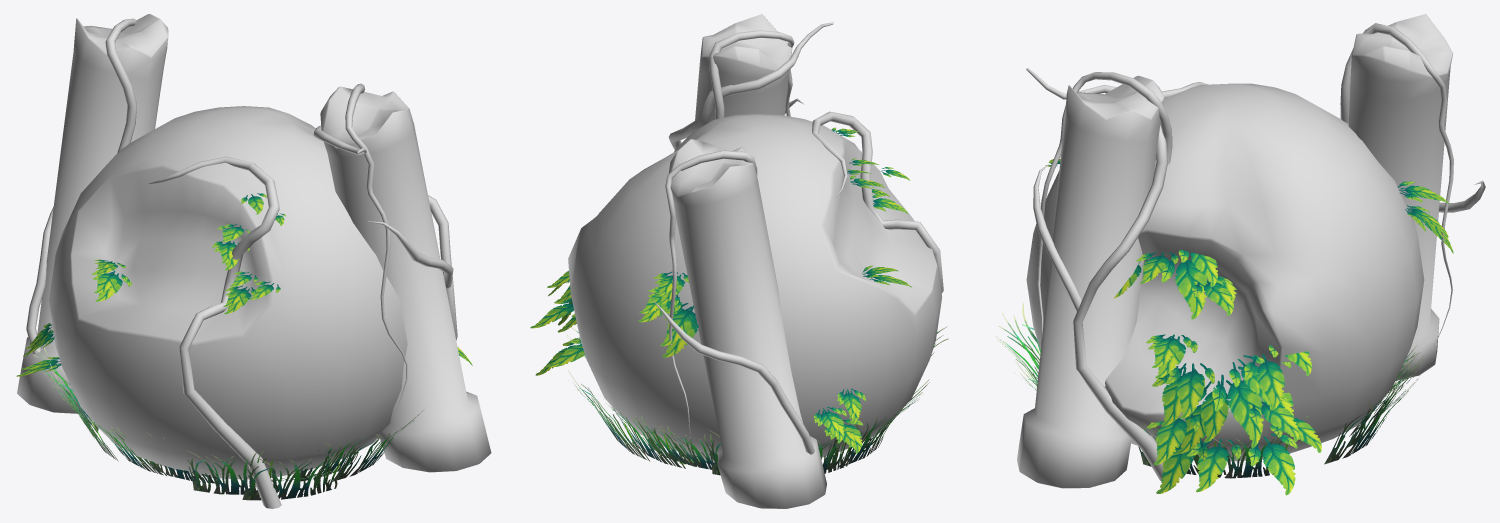
File: SM_SphereArtifact.fbx
The picture shows the model from 3 angles, left to right: view 1: azimuth 30°, elevation 25°; view 2: azimuth 150°, elevation 25°; view 3: azimuth 270°, elevation 25°; orthographic projection. The views are drawn at different scales.
Parts seen in each view (by area): view 1: SphereArtifactMesh; view 2: SphereArtifactMesh; view 3: SphereArtifactMesh.
Boxes of the visible parts, x1,y1,x2,y2 form: SphereArtifactMesh: (16,14,491,508); SphereArtifactMesh: (530,14,948,508); SphereArtifactMesh: (995,14,1485,495).
Bounding box in the file's own units: 683 × 587 × 714.
